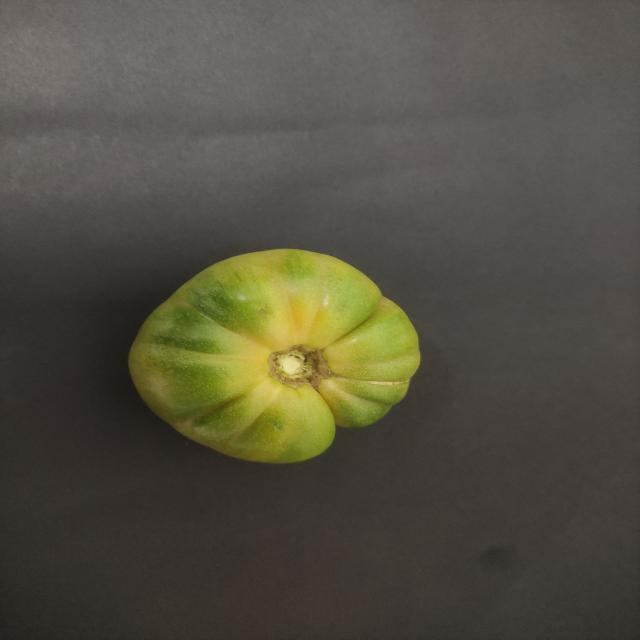yesil: (111, 238, 444, 471)
